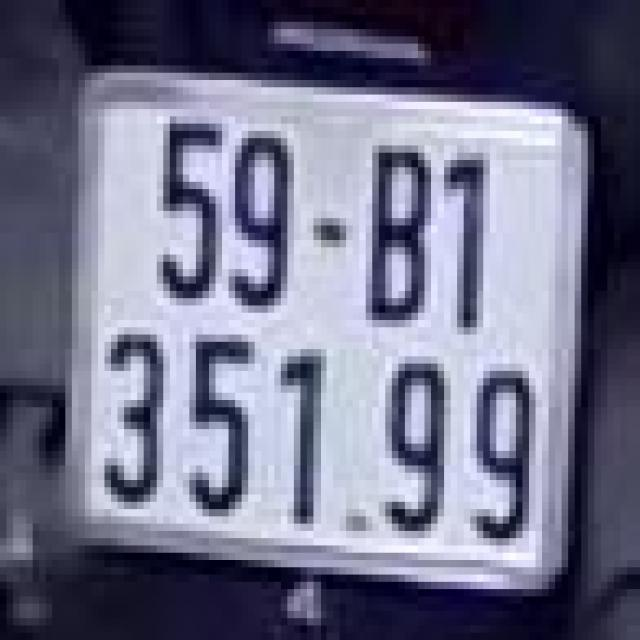1: (441, 146, 493, 349), (274, 338, 326, 535)
3: (101, 313, 167, 509)
5: (186, 320, 265, 531), (157, 105, 222, 302)
9: (378, 349, 451, 553), (228, 120, 300, 316), (470, 353, 536, 549)
B: (356, 134, 434, 331)
